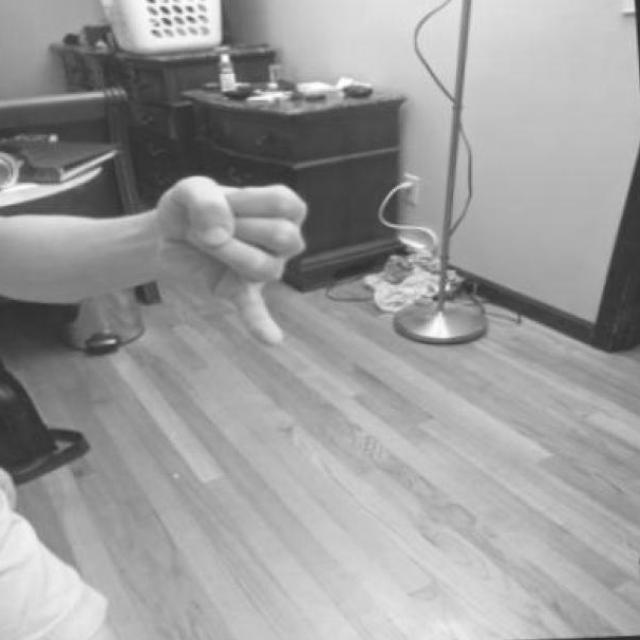J: (145, 168, 317, 361)
